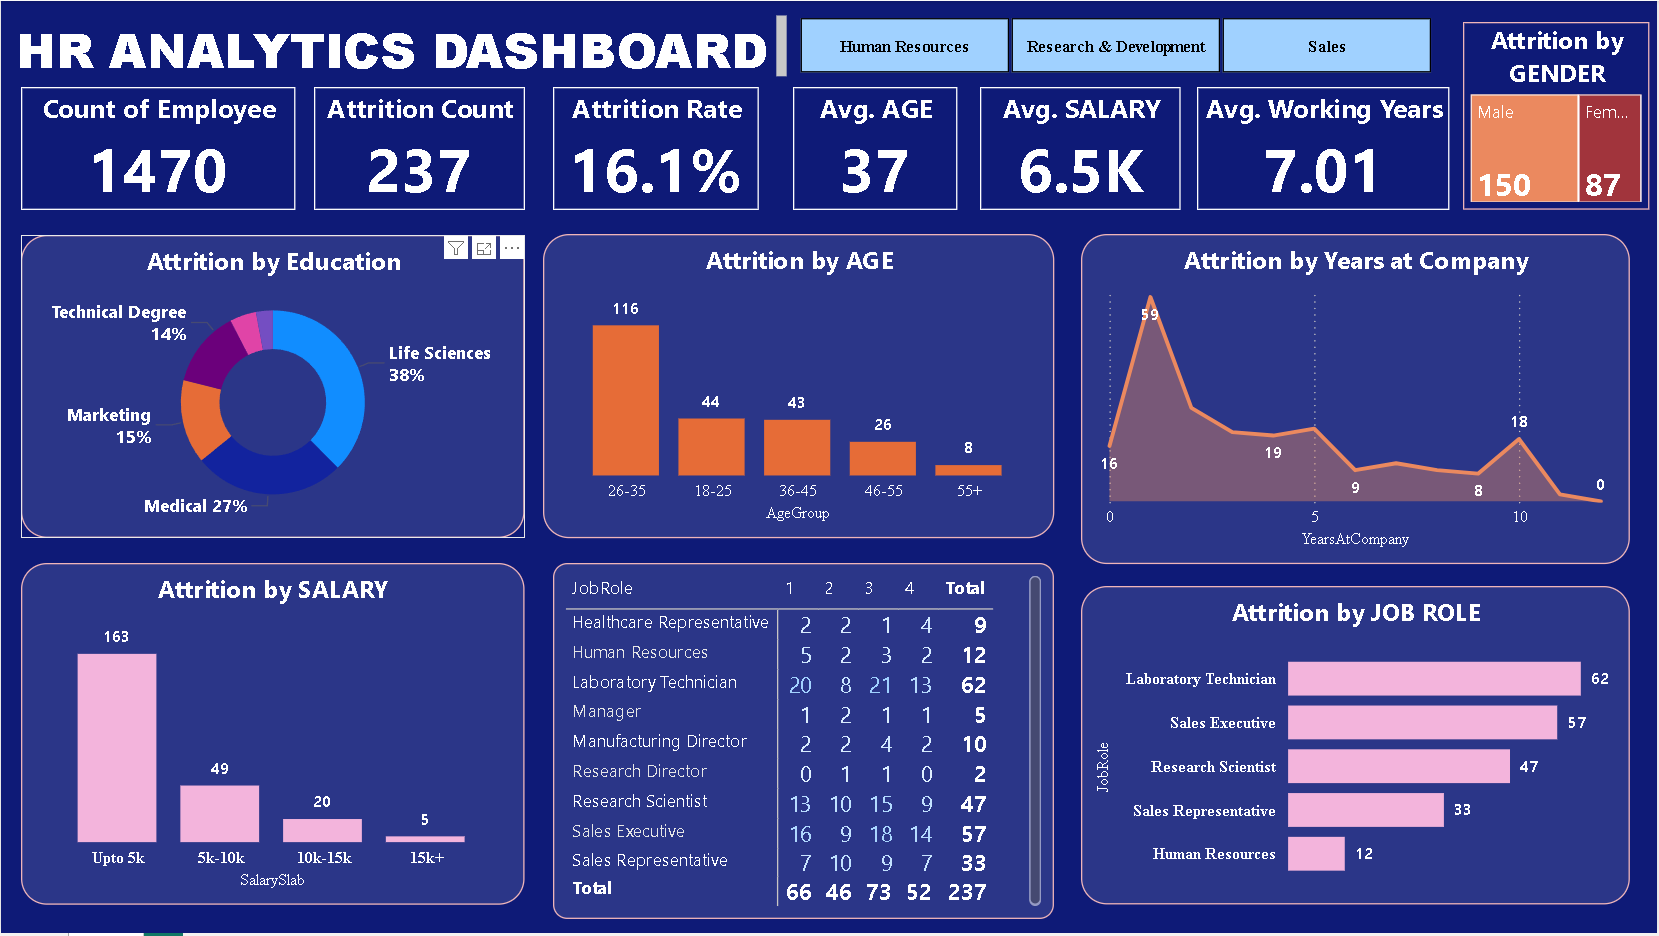

The page's visual inventory and layout, read from the dashboard file:
{"tool":"powerbi","page":{"name":"Page 1","canvas":[1280,720],"ordinal":0},"visuals":[{"type":"card","title":"Count of Employee","fields":{"Values":["CountNonNull(HR_Analytics.EmpID)"]},"box":[15.5,66.4,211.8,95.5],"z":0},{"type":"card","title":"Attrition Count","fields":{"Values":["Sum(HR_Analytics.AttritionCount)"]},"box":[241.8,66.4,162.7,95.5],"z":1000},{"type":"card","title":"Attrition Rate","fields":{"Values":["HR_Analytics.AttritionRate"]},"box":[426.4,66.4,159.1,95.5],"z":2000},{"type":"card","title":"Avg. AGE","fields":{"Values":["Avg(HR_Analytics.Age)"]},"box":[611.8,66.4,127.3,95.5],"z":3000},{"type":"card","title":"Avg. SALARY","fields":{"Values":["Avg(HR_Analytics.MonthlyIncome)"]},"box":[756.4,66.4,155.5,95.5],"z":4000},{"type":"card","title":"Avg. Working Years","fields":{"Values":["Avg(HR_Analytics.YearsAtCompany)"]},"box":[923.6,66.4,195.5,95.5],"z":5000},{"type":"donutChart","title":"Attrition by Education","fields":{"Category":["HR_Analytics.EducationField"],"Y":["Sum(HR_Analytics.AttritionCount)"]},"box":[15.5,180.9,389.1,233.6],"z":6000},{"type":"clusteredColumnChart","title":"Attrition by AGE","fields":{"Category":["HR_Analytics.AgeGroup"],"Y":["Sum(HR_Analytics.AttritionCount)"]},"box":[419.1,180,394.5,234.5],"z":7000},{"type":"pivotTable","fields":{"Rows":["HR_Analytics.JobRole"],"Columns":["HR_Analytics.JobSatisfaction"],"Values":["Sum(HR_Analytics.AttritionCount)"]},"box":[426.4,434.5,387.3,275.5],"z":8000},{"type":"columnChart","title":"Attrition by SALARY","fields":{"Category":["HR_Analytics.SalarySlab"],"Y":["Sum(HR_Analytics.AttritionCount)"]},"box":[15.5,434.5,389.1,263.6],"z":9000},{"type":"clusteredBarChart","title":"Attrition by JOB ROLE","fields":{"Category":["HR_Analytics.JobRole"],"Y":["Sum(HR_Analytics.AttritionCount)"]},"box":[834.5,451.8,423.6,246.4],"z":10000},{"type":"areaChart","title":"Attrition by Years at Company","fields":{"Category":["HR_Analytics.YearsAtCompany"],"Y":["Sum(HR_Analytics.AttritionCount)"]},"box":[834.5,180,423.6,254.5],"z":11000},{"type":"treemap","title":"Attrition by GENDER","fields":{"Group":["HR_Analytics.Gender"],"Values":["Sum(HR_Analytics.AttritionCount)"]},"box":[1129.1,16.4,143.6,145.5],"z":12000},{"type":"slicer","fields":{"Values":["HR_Analytics.Department"]},"box":[591.8,6.4,537.3,56.4],"z":13000},{"type":"textbox","box":[7.3,6.4,604.5,60],"z":14000}]}

Visuals, with their boxes in screenshot pixels (x1, y1, x2, y2), scaled from the page's 1280x720 canvas onto the 1659x936 screenshot:
"Count of Employee" card: select_region(20, 86, 295, 210)
"Attrition Count" card: select_region(313, 86, 524, 210)
"Attrition Rate" card: select_region(553, 86, 759, 210)
"Avg. AGE" card: select_region(793, 86, 958, 210)
"Avg. SALARY" card: select_region(980, 86, 1182, 210)
"Avg. Working Years" card: select_region(1197, 86, 1450, 210)
"Attrition by Education" donutChart: select_region(20, 235, 524, 539)
"Attrition by AGE" clusteredColumnChart: select_region(543, 234, 1055, 539)
pivotTable - HR_Analytics.JobRole x HR_Analytics.JobSatisfaction: select_region(553, 565, 1055, 923)
"Attrition by SALARY" columnChart: select_region(20, 565, 524, 908)
"Attrition by JOB ROLE" clusteredBarChart: select_region(1082, 587, 1631, 908)
"Attrition by Years at Company" areaChart: select_region(1082, 234, 1631, 565)
"Attrition by GENDER" treemap: select_region(1463, 21, 1650, 210)
slicer - HR_Analytics.Department: select_region(767, 8, 1463, 82)
textbox: select_region(9, 8, 793, 86)
